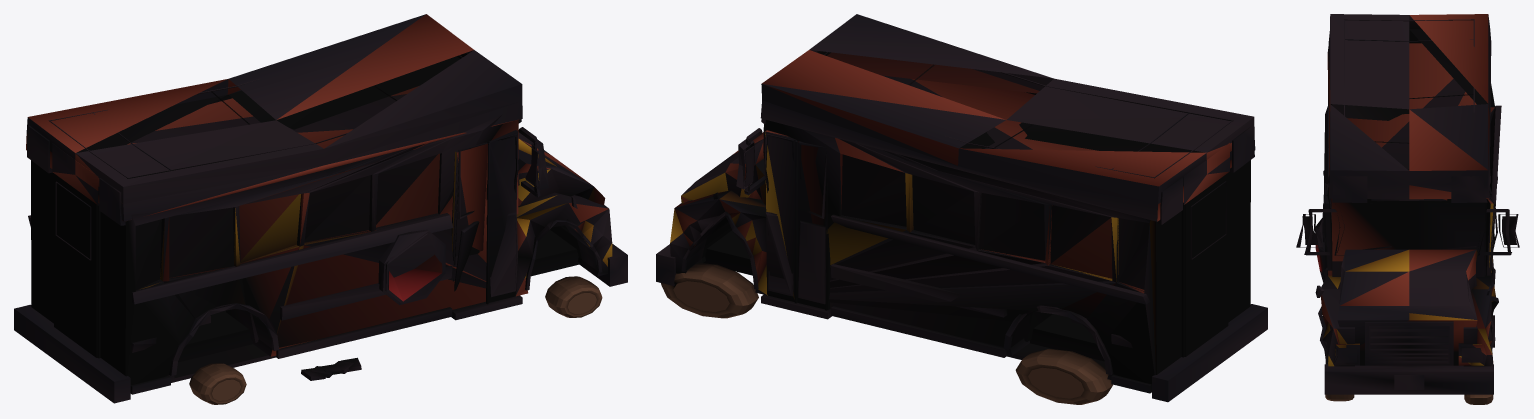
The model's file is model.burned.glb.
3 views of the same model, side by side, from view 1: azimuth 30°, elevation 25°; view 2: azimuth 150°, elevation 25°; view 3: azimuth 270°, elevation 25° (orthographic). The views are drawn at different scales.
Parts seen in each view (by area): view 1: body_pal_uiDark, body_pal_brick, body_pal_schoolBusYellow, wheelRR_pal_sidewalk, wheelFR_pal_sidewalk, body_pal_survivorRed; view 2: body_pal_uiDark, body_pal_brick, body_pal_schoolBusYellow, wheelRL_pal_sidewalk, wheelFL_pal_sidewalk; view 3: body_pal_uiDark, body_pal_brick, body_pal_schoolBusYellow, wheelFL_pal_sidewalk.
Boxes of the visible parts, <box> form: body_pal_uiDark: <box>14,14,627,403</box>; body_pal_brick: <box>26,14,608,357</box>; body_pal_schoolBusYellow: <box>140,139,612,333</box>; wheelRR_pal_sidewalk: <box>189,363,246,404</box>; wheelFR_pal_sidewalk: <box>545,276,602,317</box>; body_pal_survivorRed: <box>388,269,441,301</box>; body_pal_uiDark: <box>656,14,1267,402</box>; body_pal_brick: <box>674,50,1231,356</box>; body_pal_schoolBusYellow: <box>670,132,1156,374</box>; wheelRL_pal_sidewalk: <box>1015,349,1112,404</box>; wheelFL_pal_sidewalk: <box>661,263,758,318</box>; body_pal_uiDark: <box>1296,14,1519,394</box>; body_pal_brick: <box>1319,14,1494,366</box>; body_pal_schoolBusYellow: <box>1323,138,1495,366</box>; wheelFL_pal_sidewalk: <box>1464,361,1493,404</box>.
Size of the model in its own units: 8.18 by 3.77 by 3.73.
